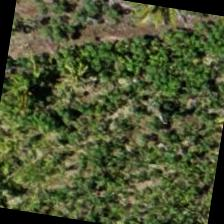Kelapa_Sawit: (111, 0, 208, 60)
